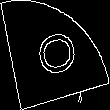O_W: (29, 27, 81, 83)
